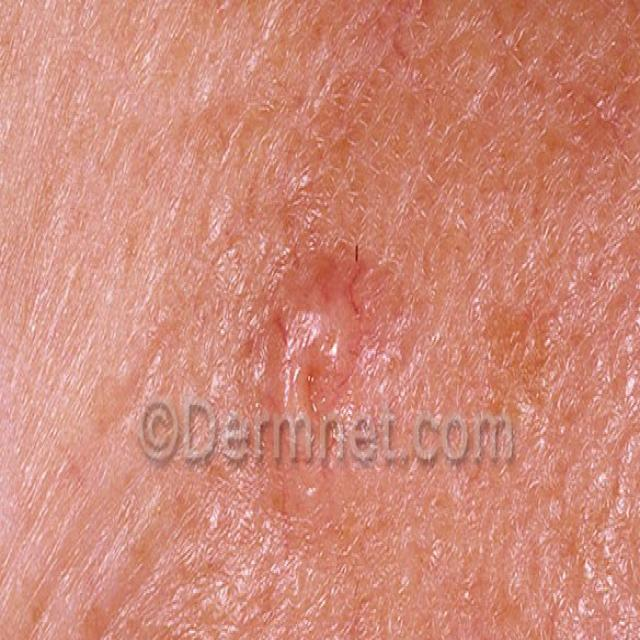Viral Infections: (217, 213, 399, 534)
